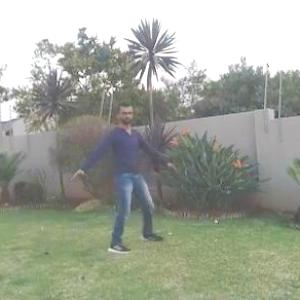land: (60, 79, 180, 278)
